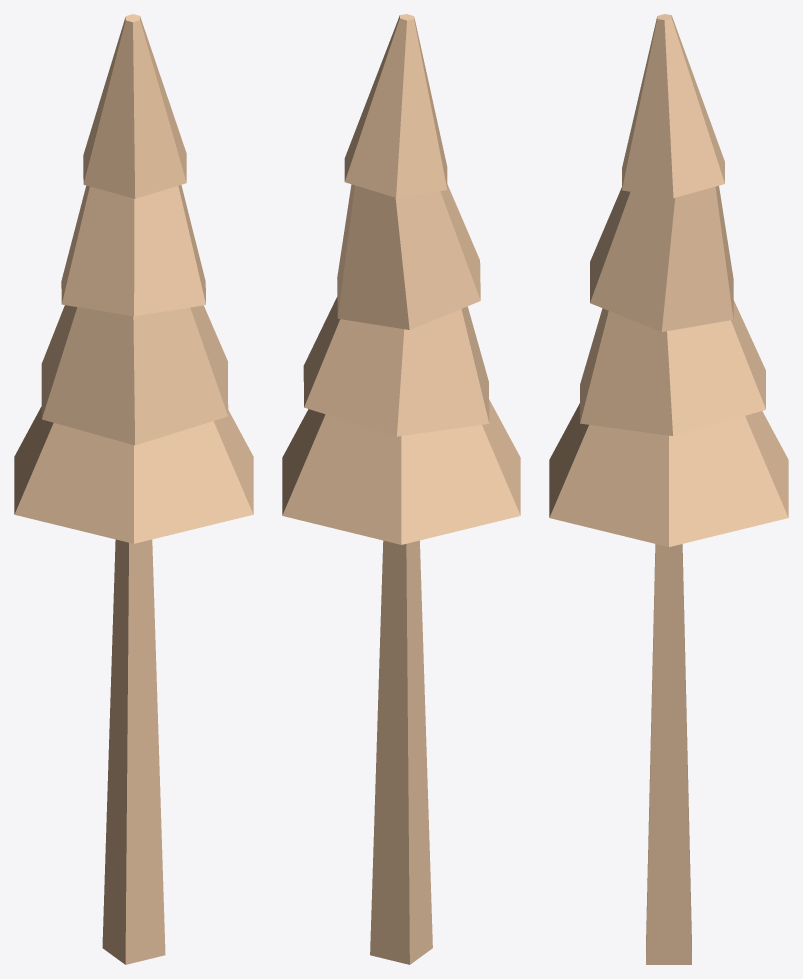
Rendered from tree_pine_tall.fbx.
3 views of the same model, side by side, from view 1: azimuth 30°, elevation 25°; view 2: azimuth 150°, elevation 25°; view 3: azimuth 270°, elevation 25° (orthographic).
Parts seen in each view (by area): view 1: tree_pine_tall; view 2: tree_pine_tall; view 3: tree_pine_tall.
Part boxes in pixels (<box>): tree_pine_tall: <box>14,14,253,964</box>; tree_pine_tall: <box>282,14,520,964</box>; tree_pine_tall: <box>549,14,788,964</box>.
Bounding box in the file's own units: 166 × 623 × 144.
